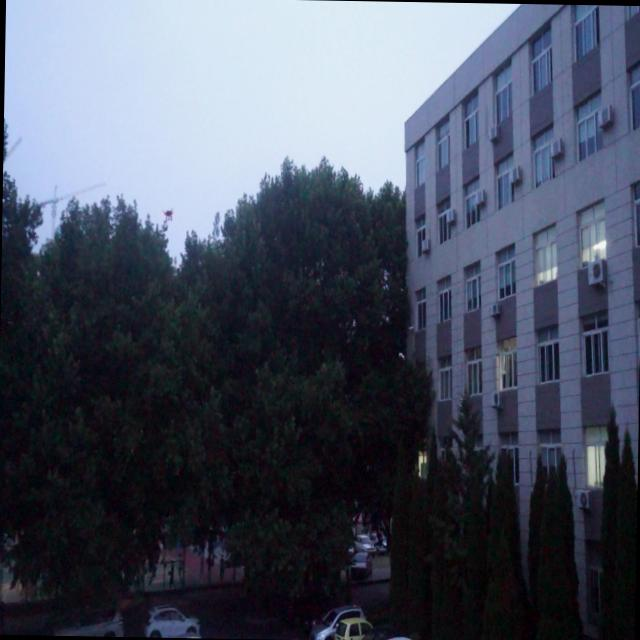drone: (162, 205, 175, 224)
